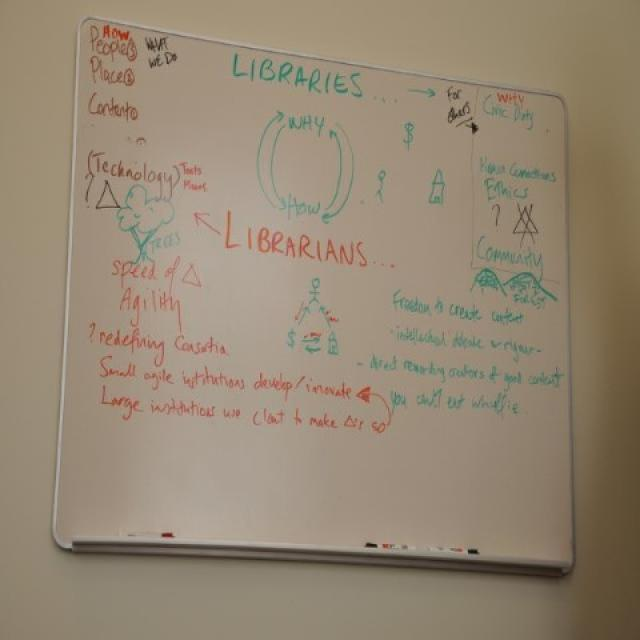White-board: (59, 16, 577, 567)
